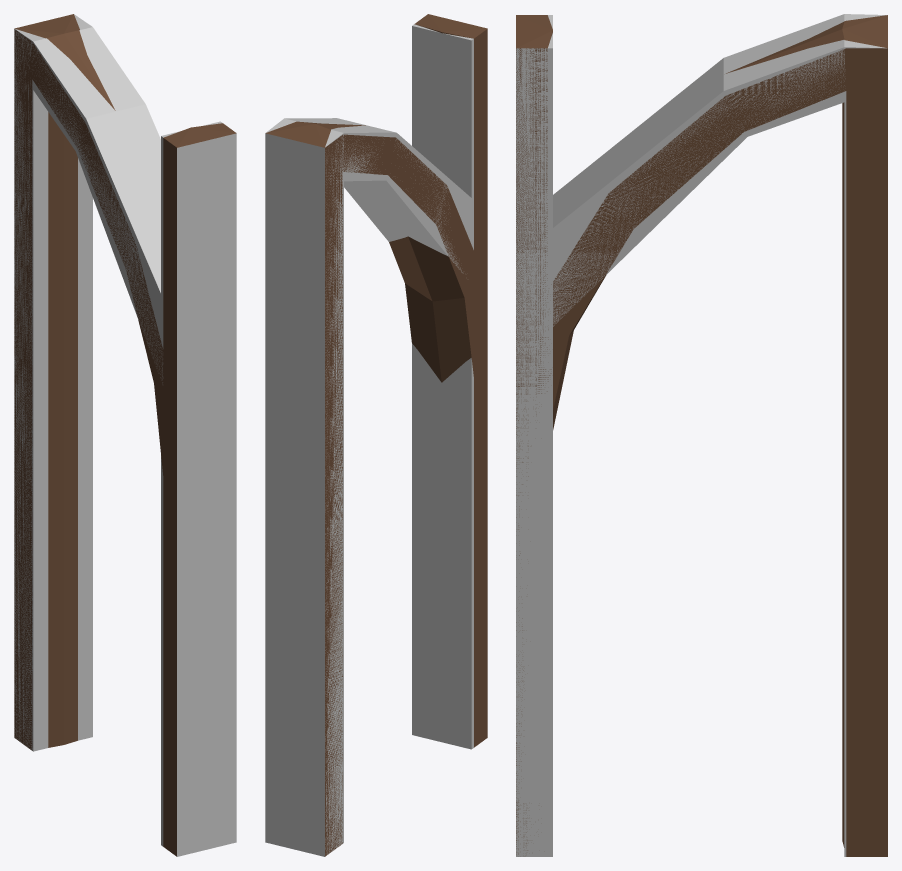
File: SM_Bld_Wall_Frame_Half_02.fbx
The picture shows the model from 3 angles, left to right: view 1: azimuth 30°, elevation 25°; view 2: azimuth 150°, elevation 25°; view 3: azimuth 270°, elevation 25°; orthographic projection. The views are drawn at different scales.
Visible parts, largest first — view 1: SM_Bld_Wall_Frame_Half_02_ConvexHulls, SM_Bld_Wall_Frame_Half_02; view 2: SM_Bld_Wall_Frame_Half_02_ConvexHulls, SM_Bld_Wall_Frame_Half_02; view 3: SM_Bld_Wall_Frame_Half_02, SM_Bld_Wall_Frame_Half_02_ConvexHulls.
Part boxes in pixels (<box>): SM_Bld_Wall_Frame_Half_02_ConvexHulls: <box>14,14,236,856</box>; SM_Bld_Wall_Frame_Half_02: <box>14,14,236,856</box>; SM_Bld_Wall_Frame_Half_02_ConvexHulls: <box>265,24,473,856</box>; SM_Bld_Wall_Frame_Half_02: <box>266,14,487,856</box>; SM_Bld_Wall_Frame_Half_02: <box>516,15,887,856</box>; SM_Bld_Wall_Frame_Half_02_ConvexHulls: <box>516,14,886,856</box>.
Size of the model in its own units: 26.42 by 125 by 301.
Materials: 2 (1 with a texture image).
